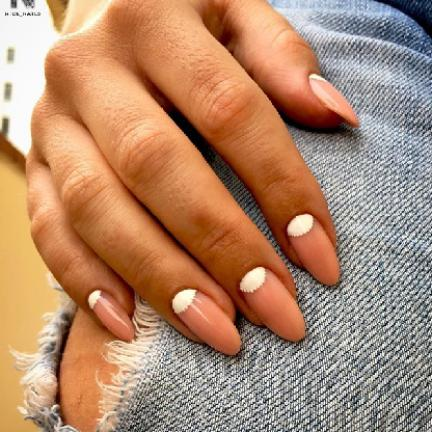Nail: (240, 267, 305, 340), (172, 289, 240, 354), (287, 213, 339, 285), (309, 73, 359, 127), (88, 289, 134, 341)
